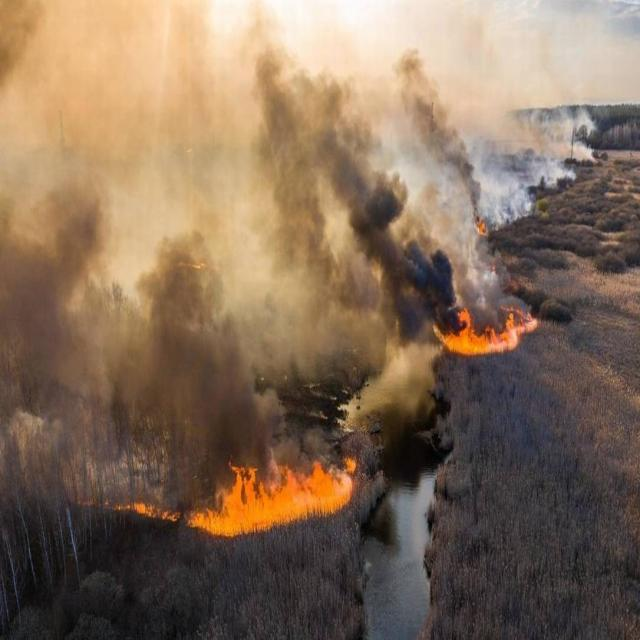Fire: (188, 456, 357, 539), (433, 308, 537, 358), (124, 498, 154, 518), (477, 220, 488, 238), (164, 508, 178, 522)
